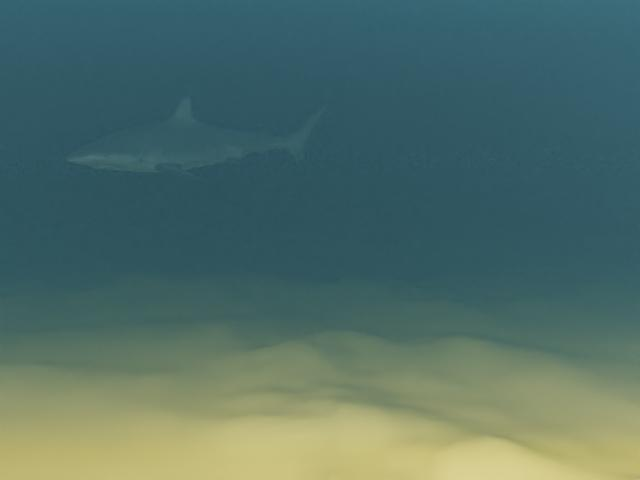Carribean Shark.001: (66, 91, 330, 181)
